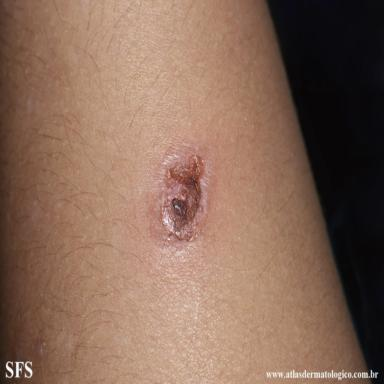Impetigo: (147, 140, 217, 248)
